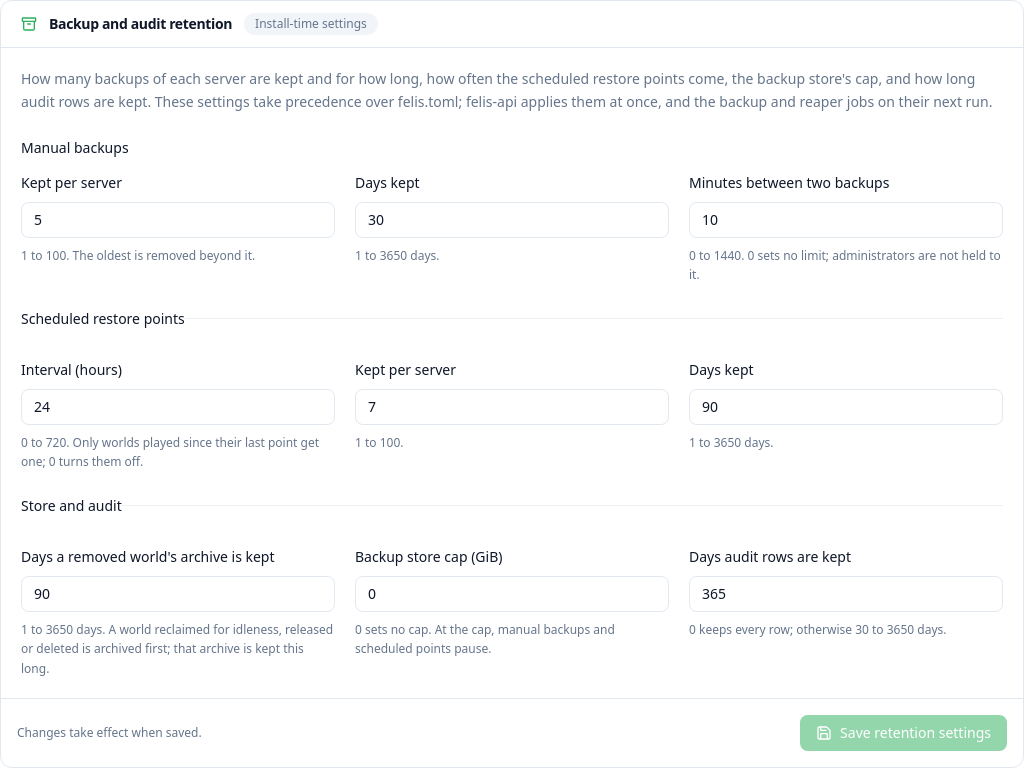
Test: retention settings › refuses a value outside its bounds and marks the field
The width and height of the screenshot is (1024, 768).
Expected: the 1st number field labelled "Kept per server" holds "5", [21,202,335,238]
Step 1. Replace the text in the number field labelled "Days audit rows are kept" with "29" → (846, 594), box [689,576,1003,612]
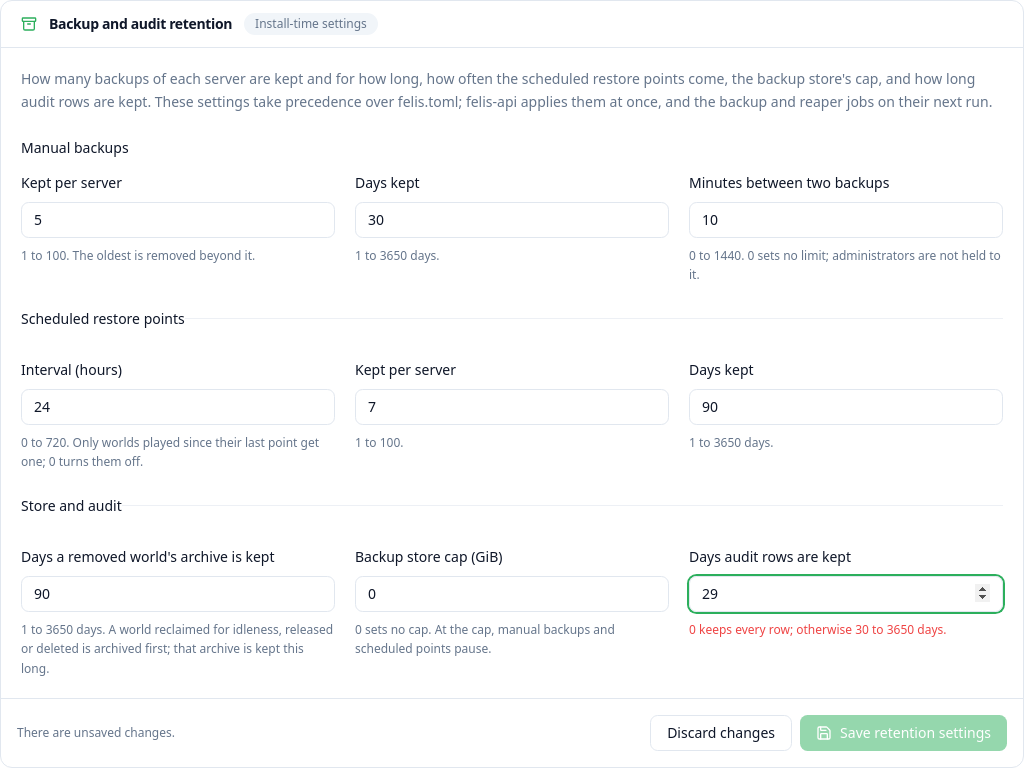
Expected: the button "Save retention settings" is disabled, [800,715,1007,751]
Expected: the number field labelled "Days audit rows are kept" is marked as invalid
Step 2. Replace the text in the number field labelled "Days audit rows are kept" with "0" → (846, 594), box [689,576,1003,612]
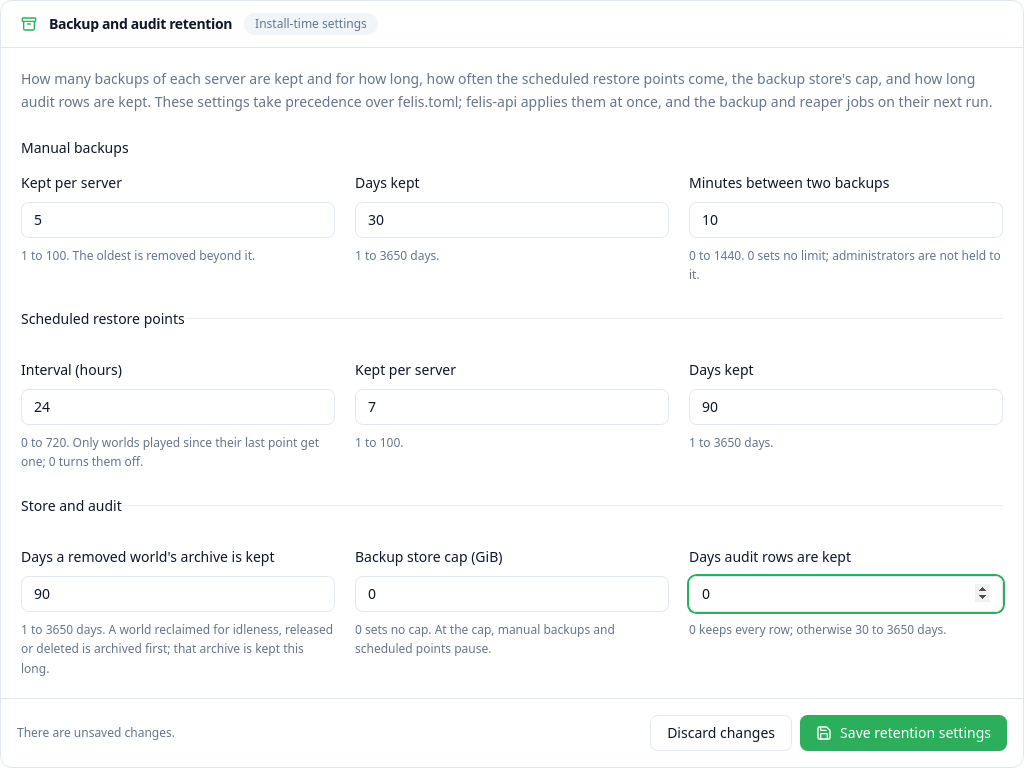
Expected: the number field labelled "Days audit rows are kept" is not marked as invalid, [689,576,1003,612]
Step 3. Replace the text in the number field labelled "Interval (hours)" with "721" → (178, 406), box [21,388,335,424]
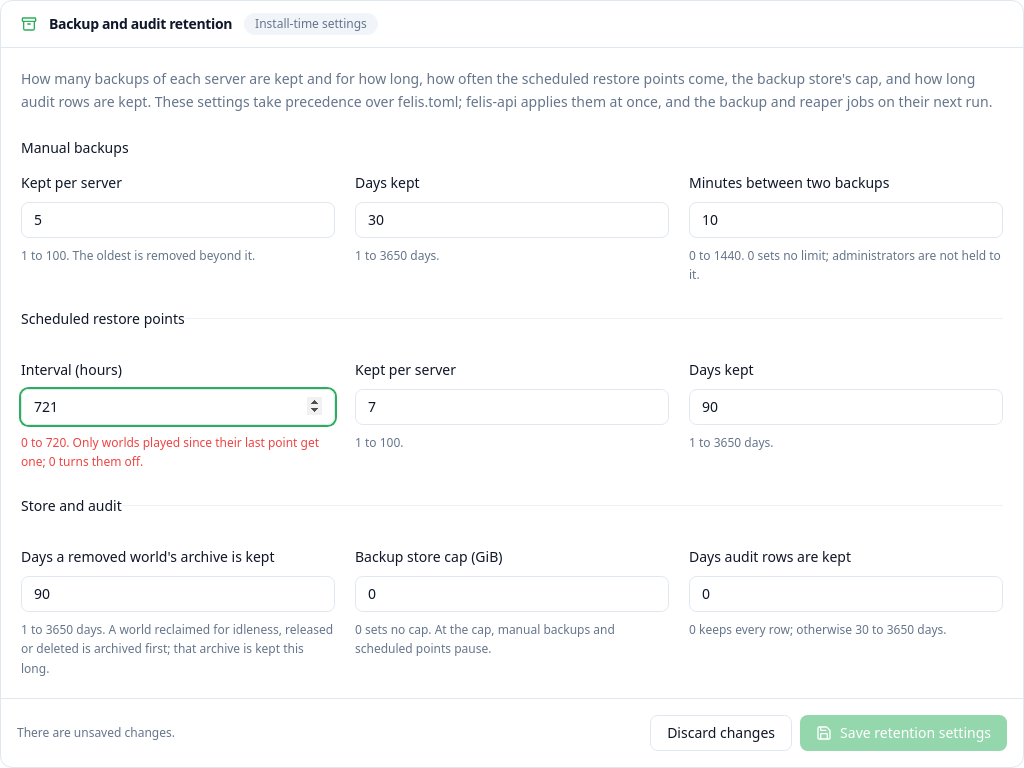
Expected: the button "Save retention settings" is disabled, [800,715,1007,751]
Step 4. Replace the text in the number field labelled "Interval (hours)" with "0" → (178, 406), box [21,388,335,424]
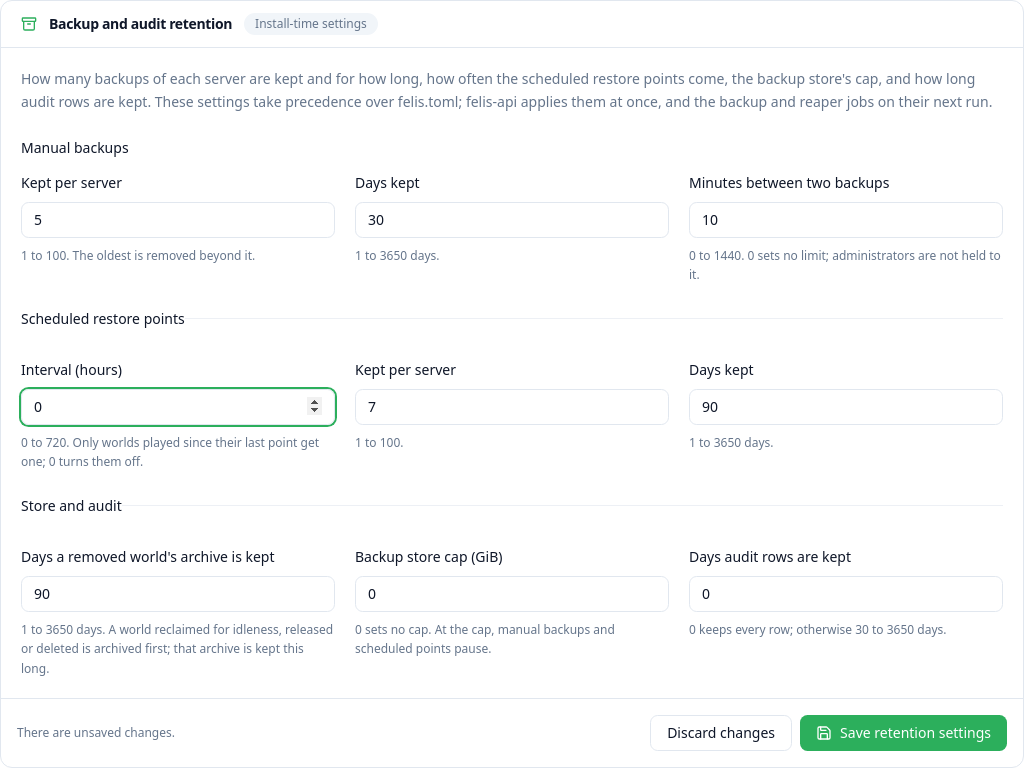
Expected: the number field labelled "Interval (hours)" is not marked as invalid, [21,388,335,424]
Step 5. Replace the text in the number field labelled "Minutes between two backups" with "1441" → (846, 220), box [689,202,1003,238]
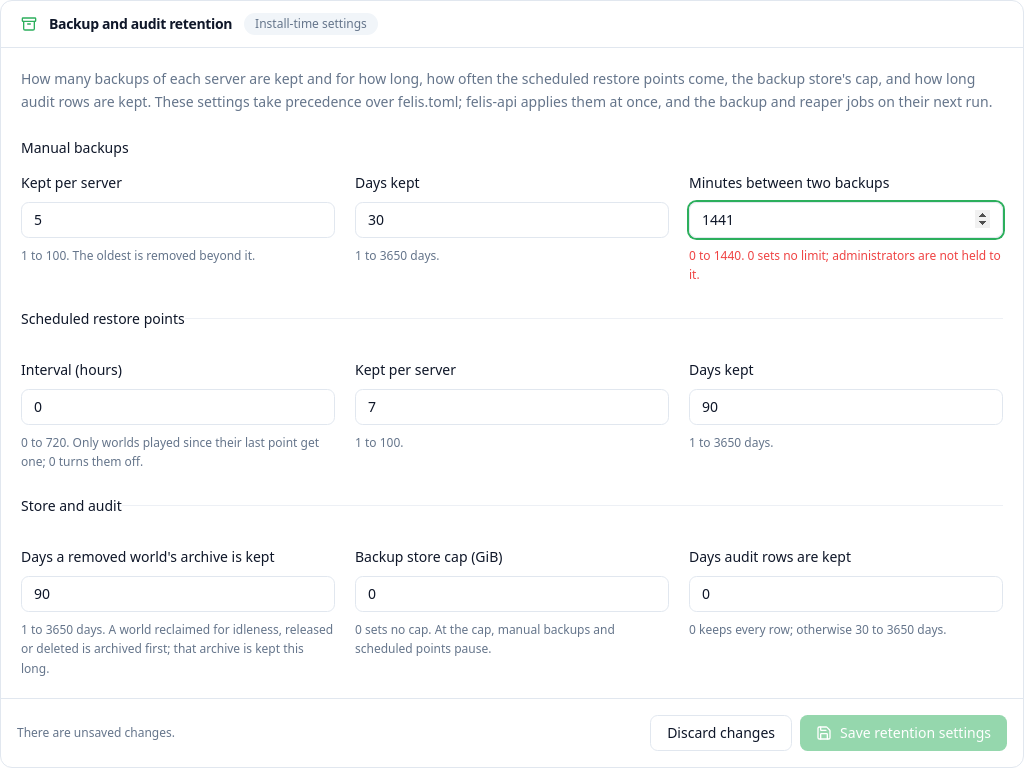
Expected: the button "Save retention settings" is disabled, [800,715,1007,751]
Step 6. Replace the text in the number field labelled "Minutes between two backups" with "0" → (846, 220), box [689,202,1003,238]
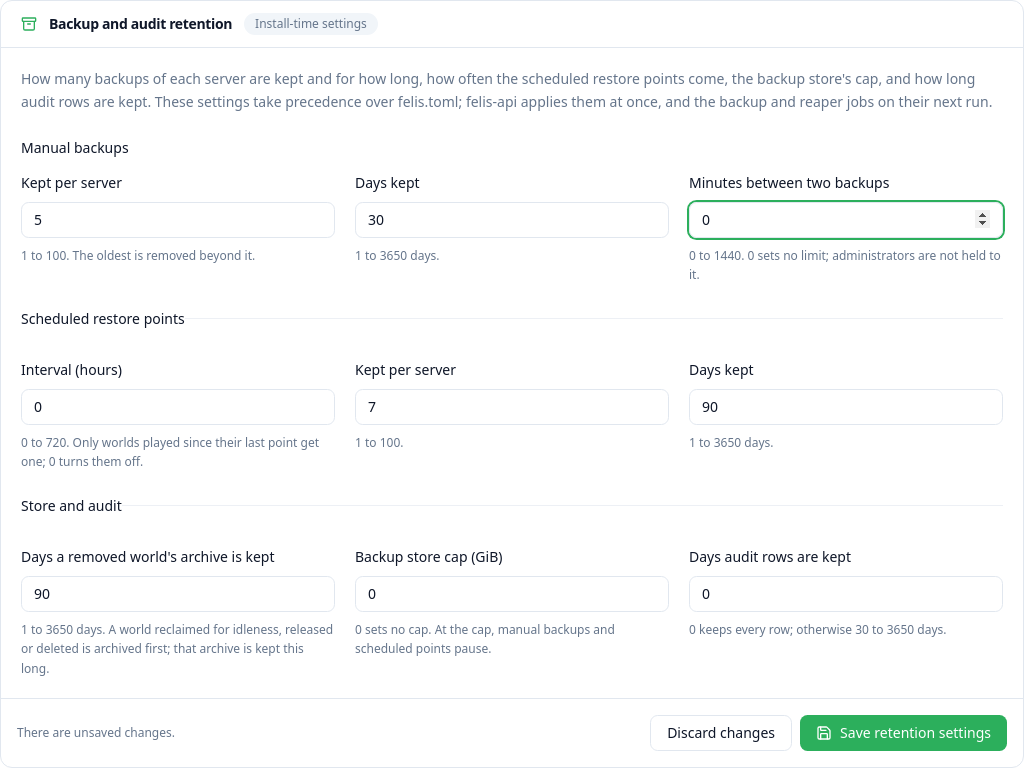
Expected: the button "Save retention settings" is enabled, [800,715,1007,751]
